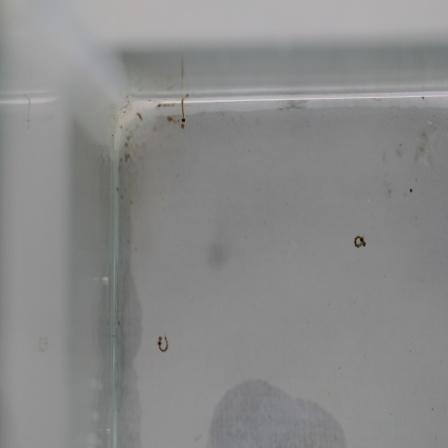Jentik-Nyamuk: (165, 92, 191, 134), (152, 332, 172, 355), (350, 230, 370, 252)
